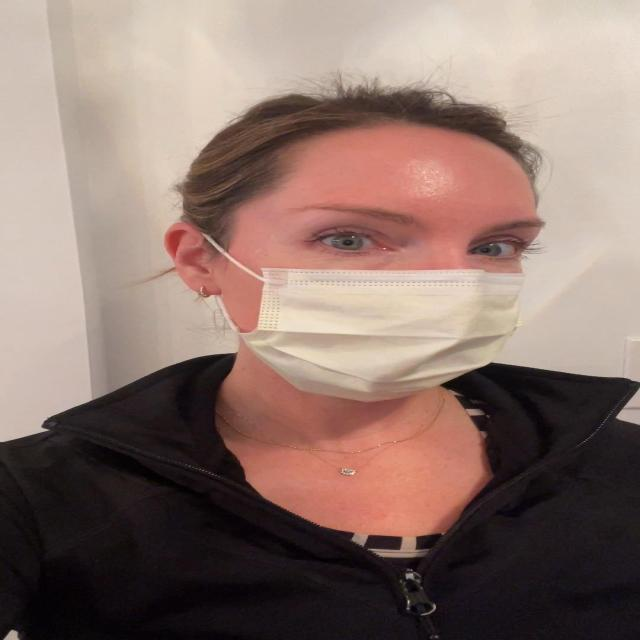no-helmet: (132, 106, 576, 418)
